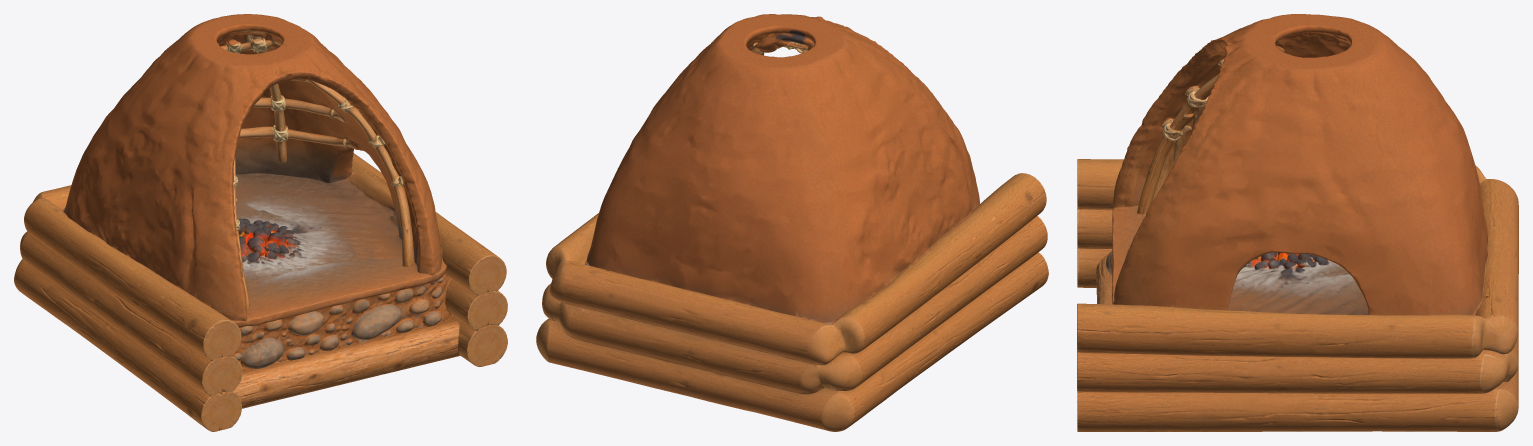
The model's file is glinobitnaya-clay-oven-v1.glb.
3 views of the same model, side by side, from view 1: azimuth 30°, elevation 25°; view 2: azimuth 150°, elevation 25°; view 3: azimuth 270°, elevation 25° (orthographic). The views are drawn at different scales.
Bounding box in the file's own units: 1.79 × 1.57 × 2.
Materials: 1 (1 with a texture image).
